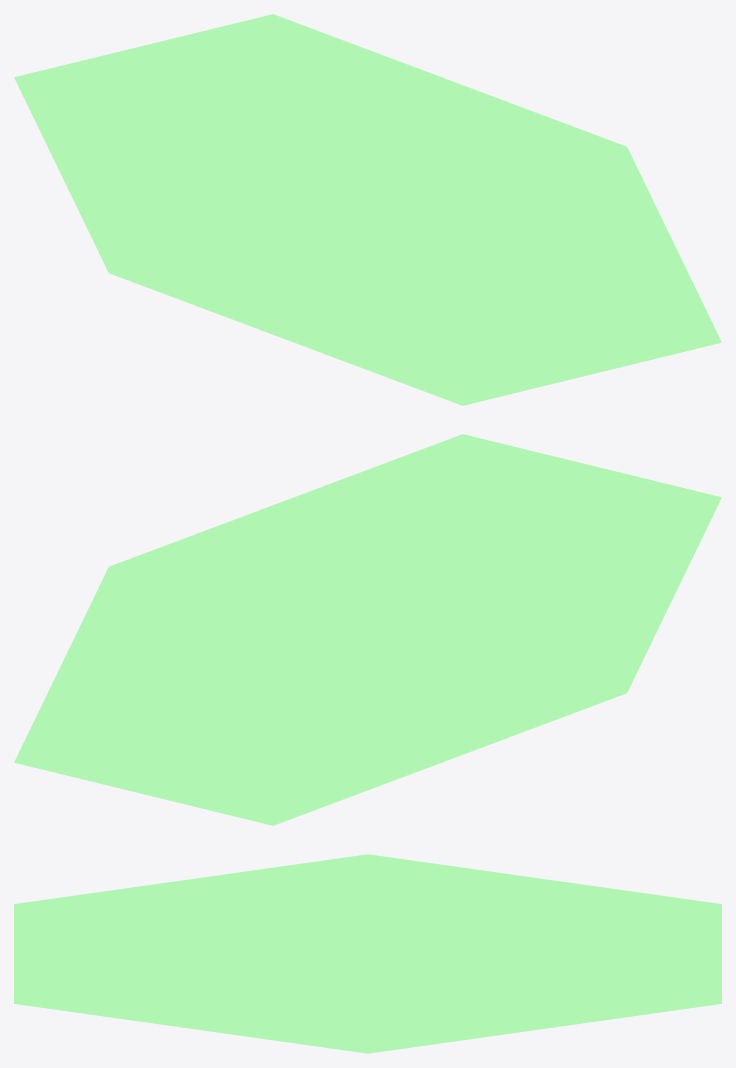
The model's file is s01z_na1-floor.glb.
The picture shows the model from 3 angles, top to bottom: view 1: azimuth 30°, elevation 25°; view 2: azimuth 150°, elevation 25°; view 3: azimuth 270°, elevation 25°; orthographic projection. The views are drawn at different scales.
Visible parts, largest first — view 1: collision_floor-colonly; view 2: collision_floor-colonly; view 3: collision_floor-colonly.
Part boxes in pixels (box(x1,y1,x2,y2)): collision_floor-colonly: box(14, 14, 721, 405); collision_floor-colonly: box(14, 434, 721, 825); collision_floor-colonly: box(14, 854, 721, 1053).
Size of the model in its own units: 30 by 0 by 45.
